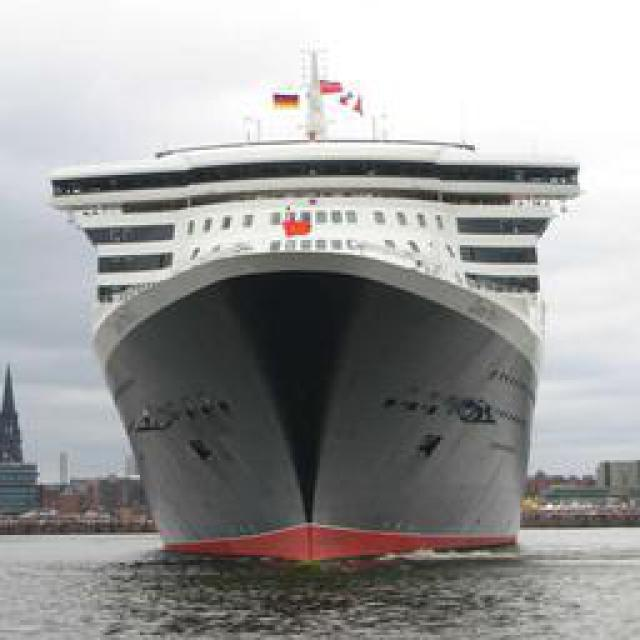Ship: (86, 210, 546, 568)
